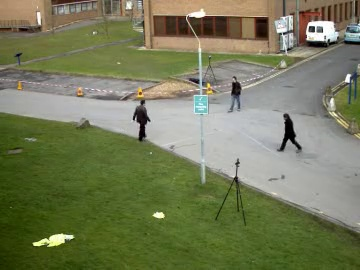person: (277, 112, 299, 153), (133, 98, 150, 141), (229, 76, 244, 111)
